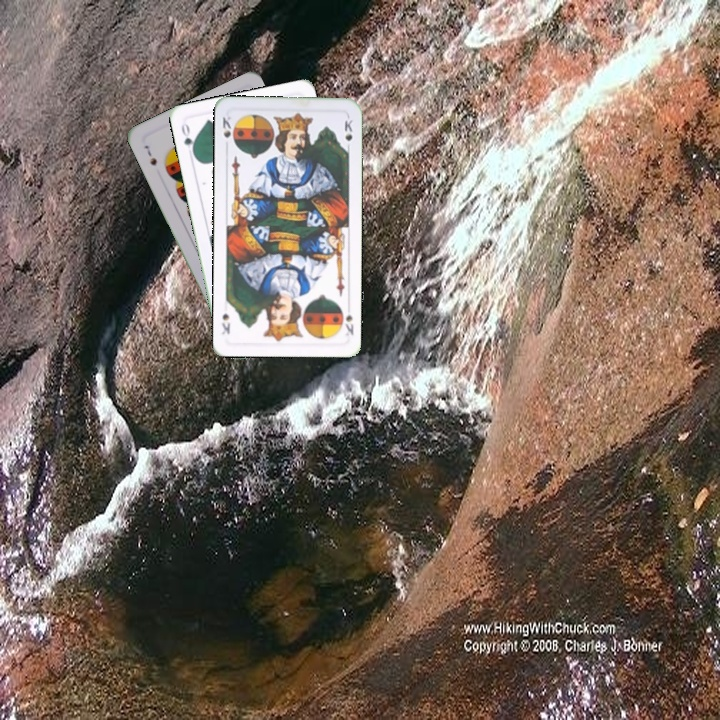GO: (177, 118, 198, 158)
S7: (140, 141, 160, 168)
SK: (337, 303, 356, 338), (219, 112, 234, 140)
